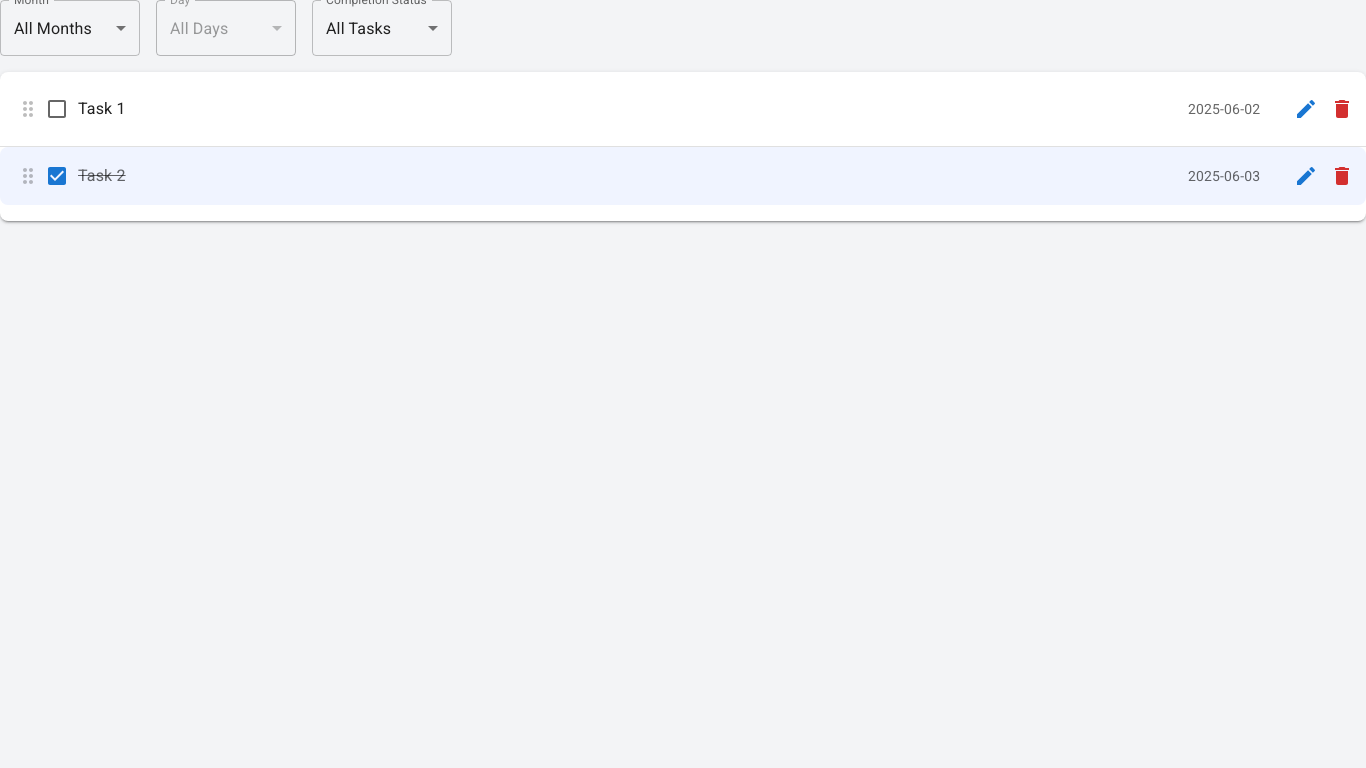
Scenario: delete dialog opens and cancels
Click the button named "delete" next to "2025-06-02" at [1342, 109], box left=1322, top=89, right=1362, bottom=129
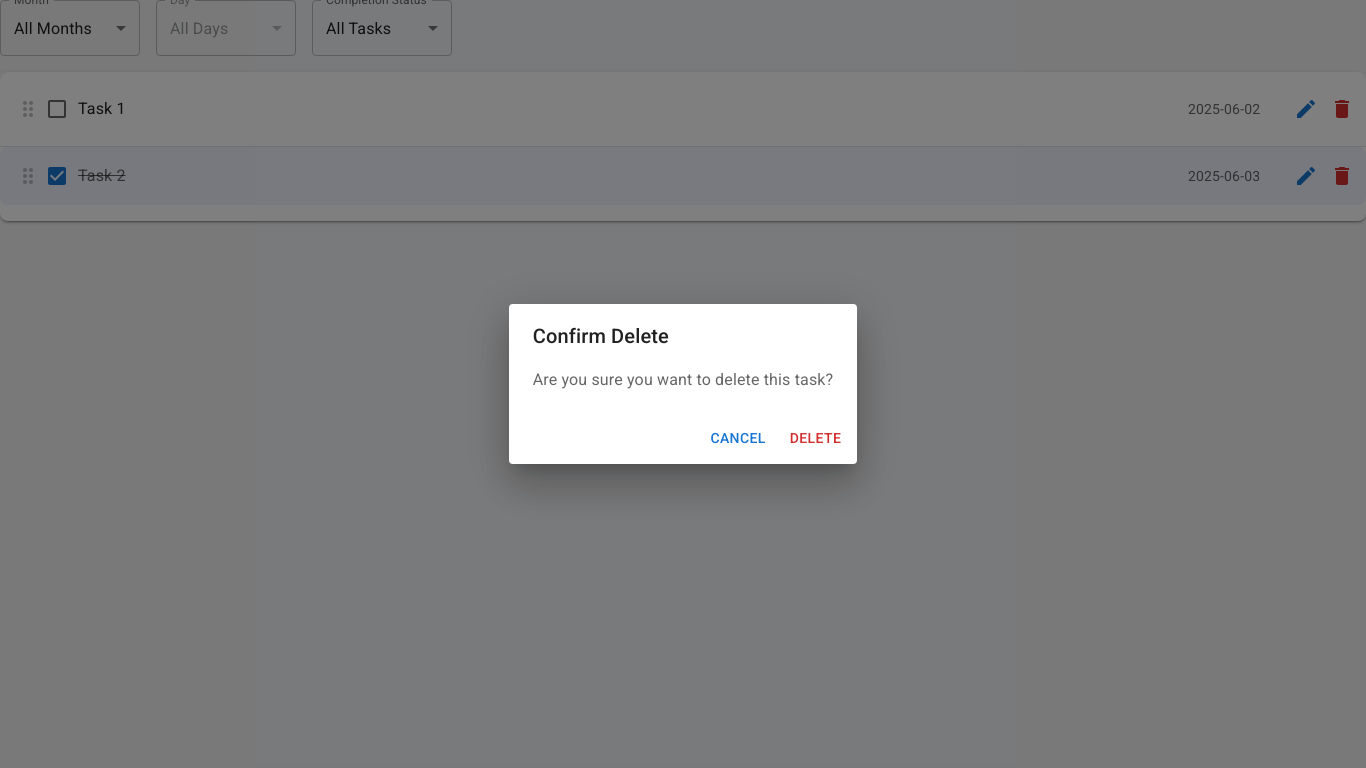
Check: the heading "Confirm Delete" is shown, box left=533, top=324, right=669, bottom=348
Click the button "Cancel" at [738, 438], box left=702, top=420, right=774, bottom=456
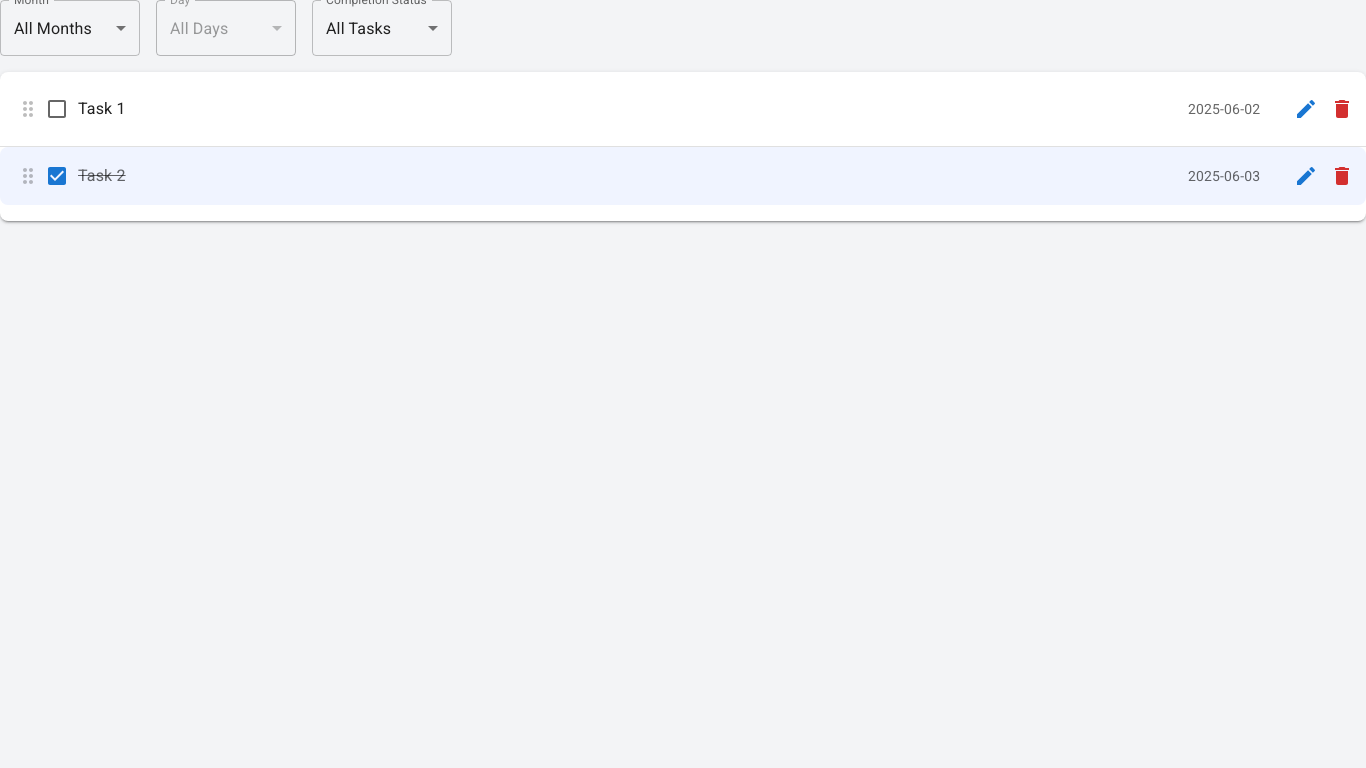
Check: the heading "Confirm Delete" is gone
